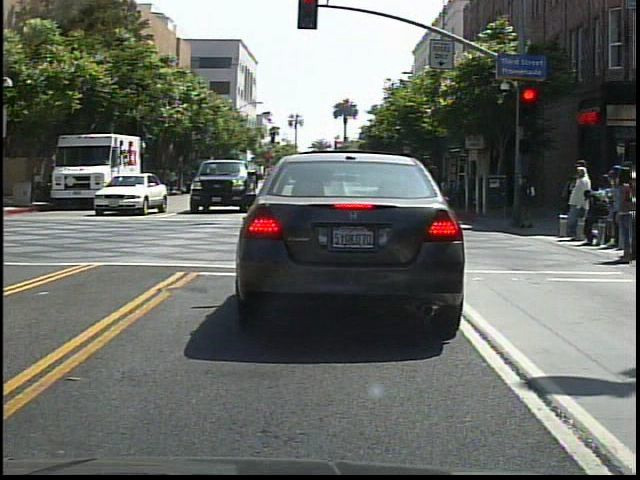person: (567, 161, 599, 257), (415, 161, 448, 227), (518, 167, 543, 231)
